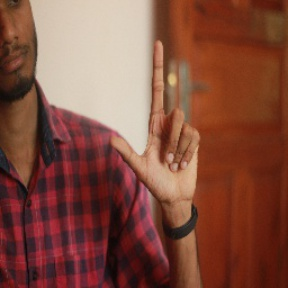L: (110, 40, 204, 200)
